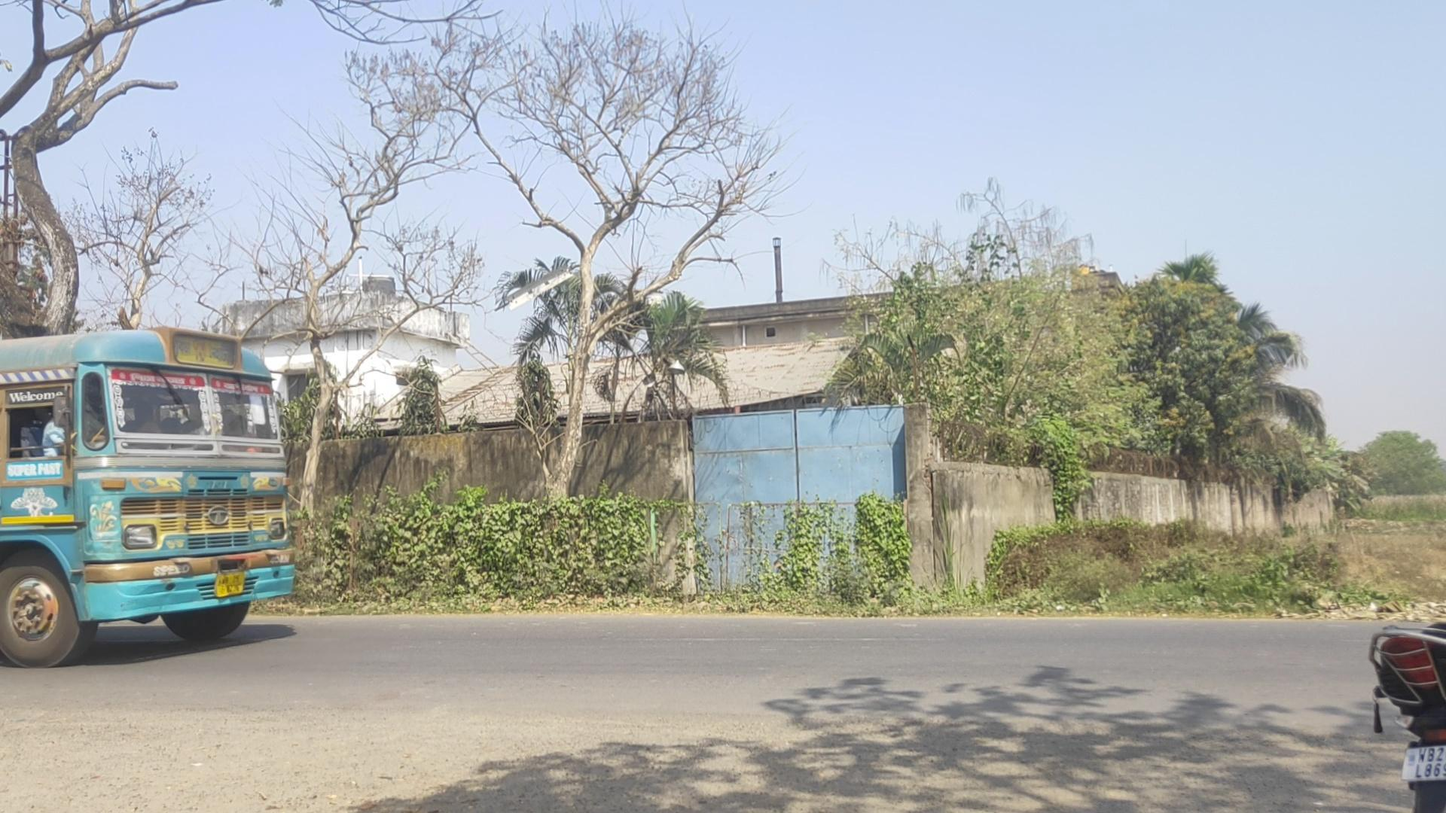Bus: (2, 325, 294, 670)
